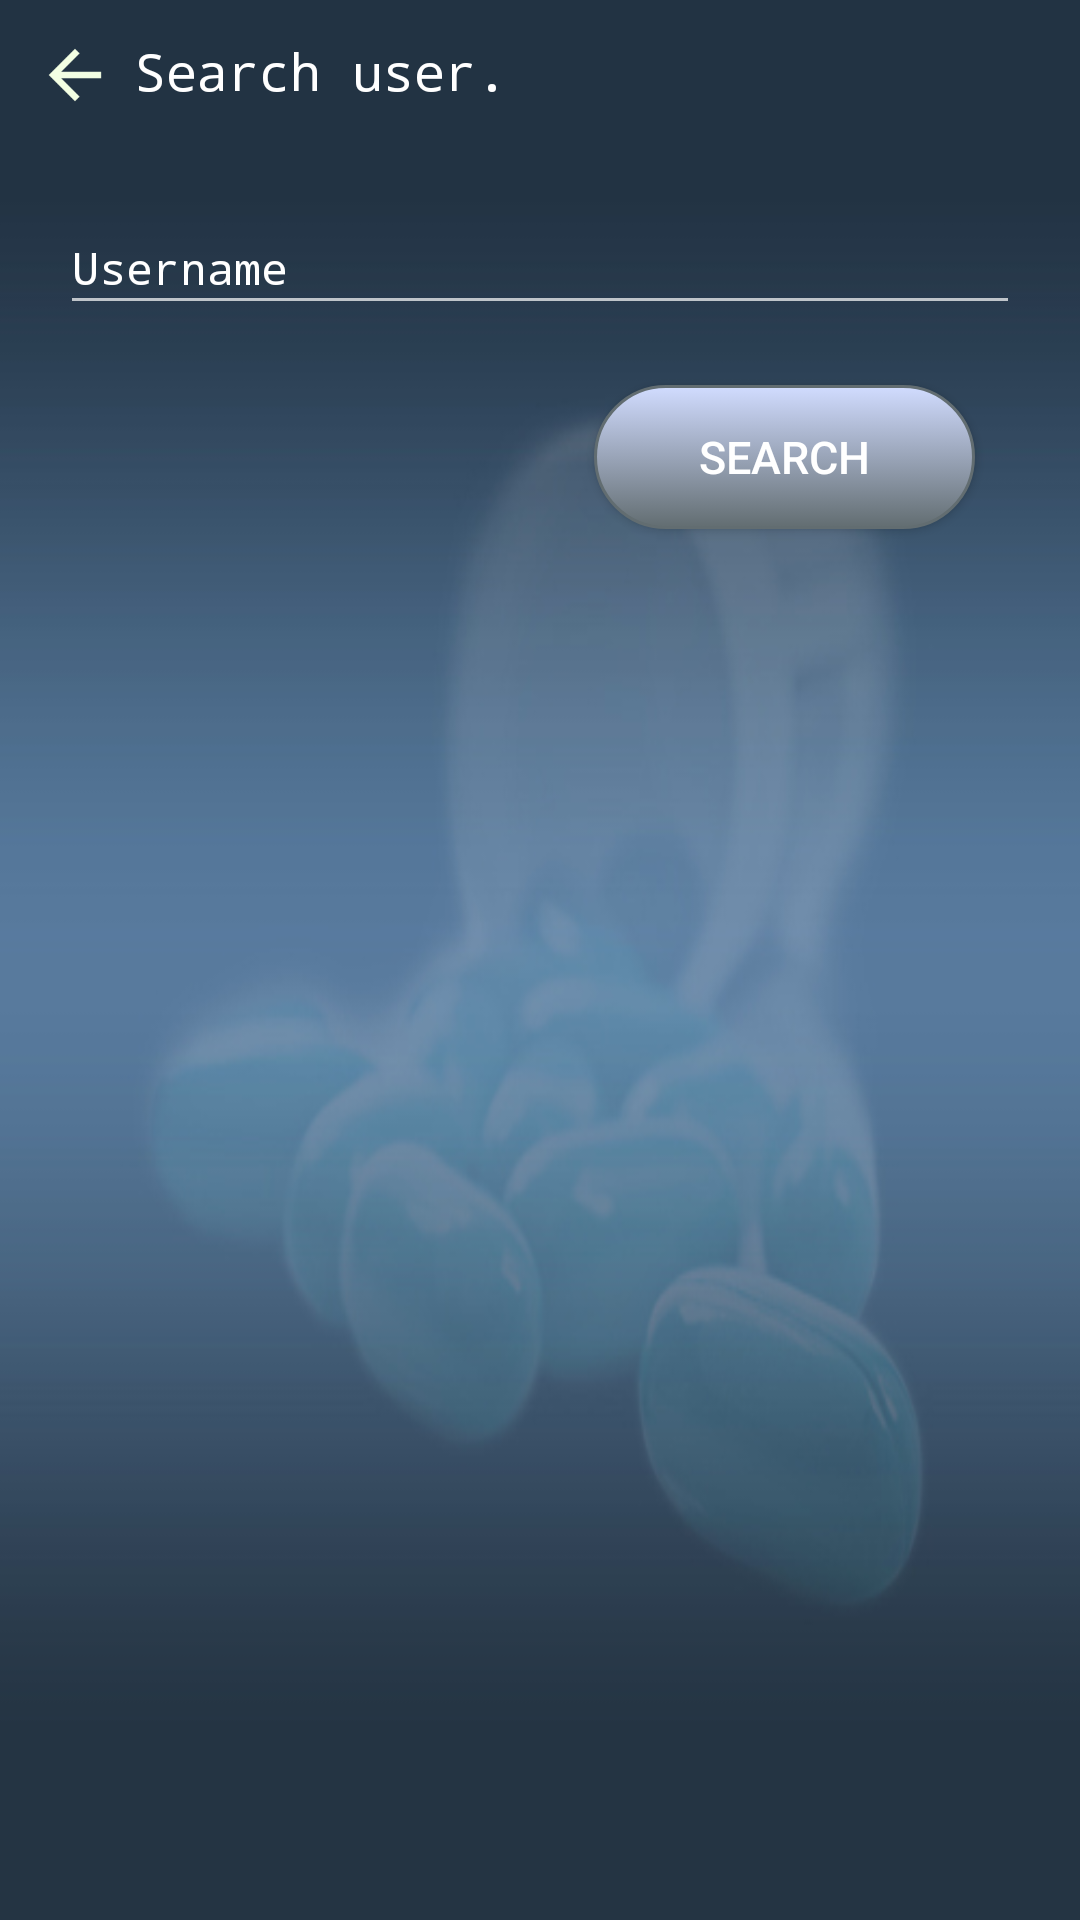

Screen size 1080px×1920px. Icon name, then its center in pixels as (x=x, y=y):
arrow back: (x=75, y=75)
